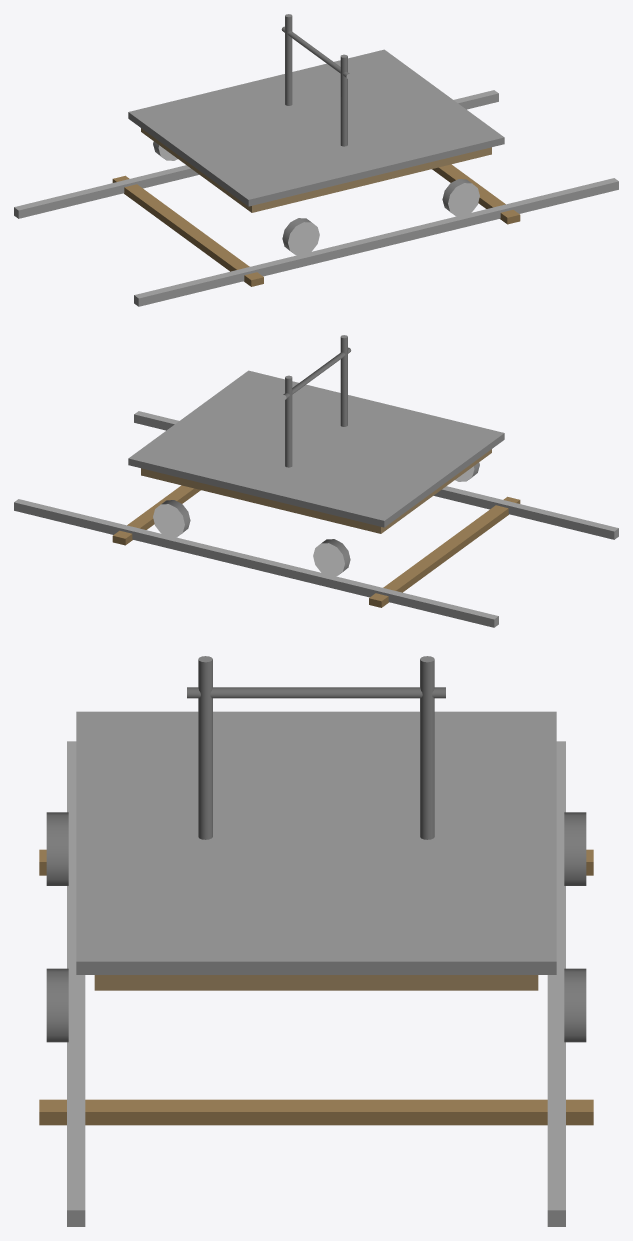
File: env-ww-handcar.glb
3 views of the same model, one above another, from view 1: azimuth 30°, elevation 25°; view 2: azimuth 150°, elevation 25°; view 3: azimuth 270°, elevation 25° (orthographic). The views are drawn at different scales.
Bounding box in the file's own units: 3 × 1 × 1.5.
